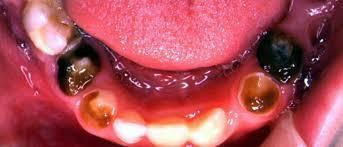cavity: (51, 39, 105, 99), (22, 1, 77, 54), (257, 31, 303, 85), (237, 73, 282, 117), (188, 107, 237, 147), (75, 90, 114, 133), (115, 112, 143, 144), (306, 13, 331, 46)
normal: (148, 118, 187, 147)
